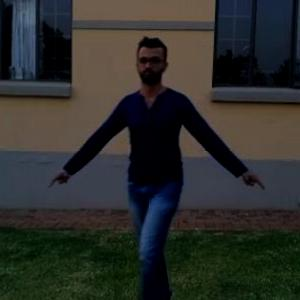land: (75, 46, 238, 286)
